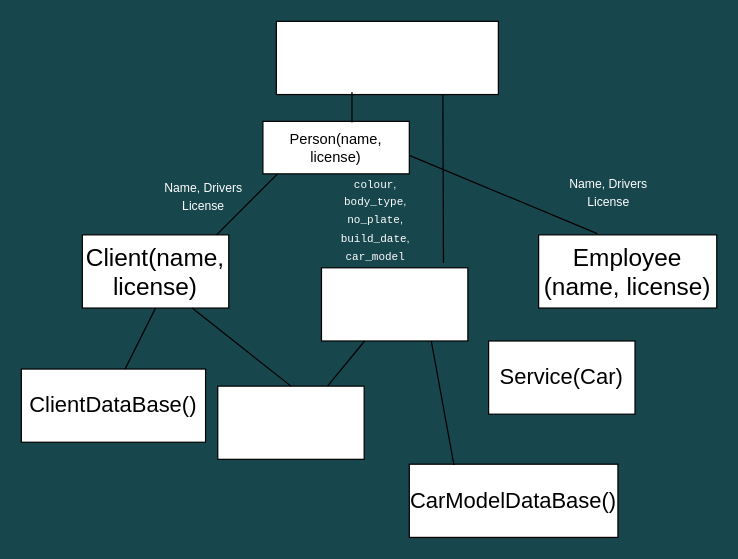
The diagram is 738 pixels wide and 559 high, and some of its shapes have lost their labels. The shapes that lost their labels are listed below. From the top down, each one's box as (x1, y1, x2, y2) in pixels, then its label:
(275, 20, 498, 95): Main()
(320, 267, 468, 341): Car()
(217, 385, 364, 459): CarRegistry()
